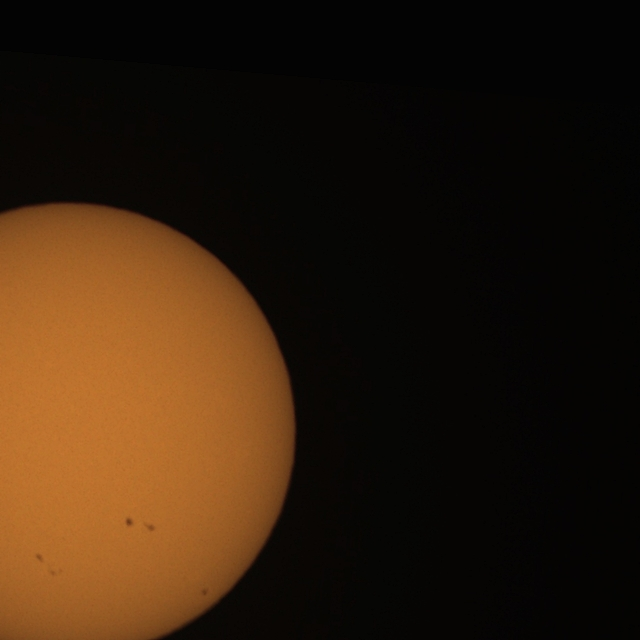sunspot: (35, 552, 63, 578), (123, 515, 157, 533), (49, 566, 63, 578), (143, 521, 156, 533), (35, 552, 45, 564), (124, 516, 134, 528), (201, 586, 209, 597)
